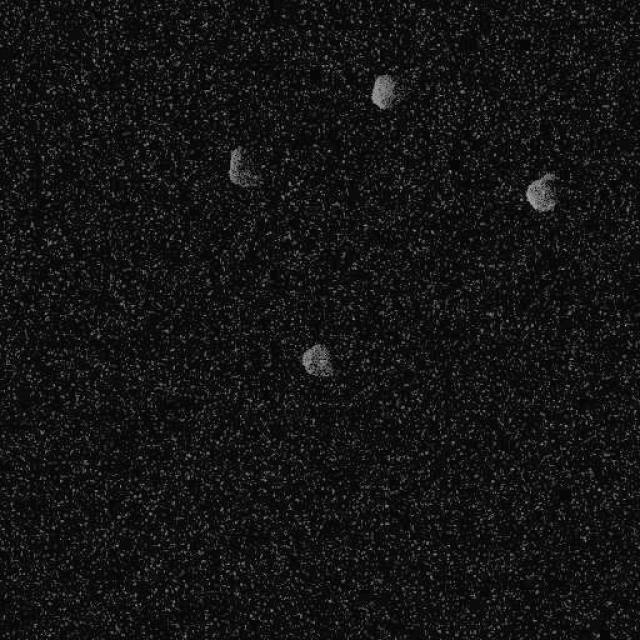D2: (226, 145, 264, 189), (524, 171, 558, 214), (300, 342, 334, 378), (370, 72, 395, 110)
